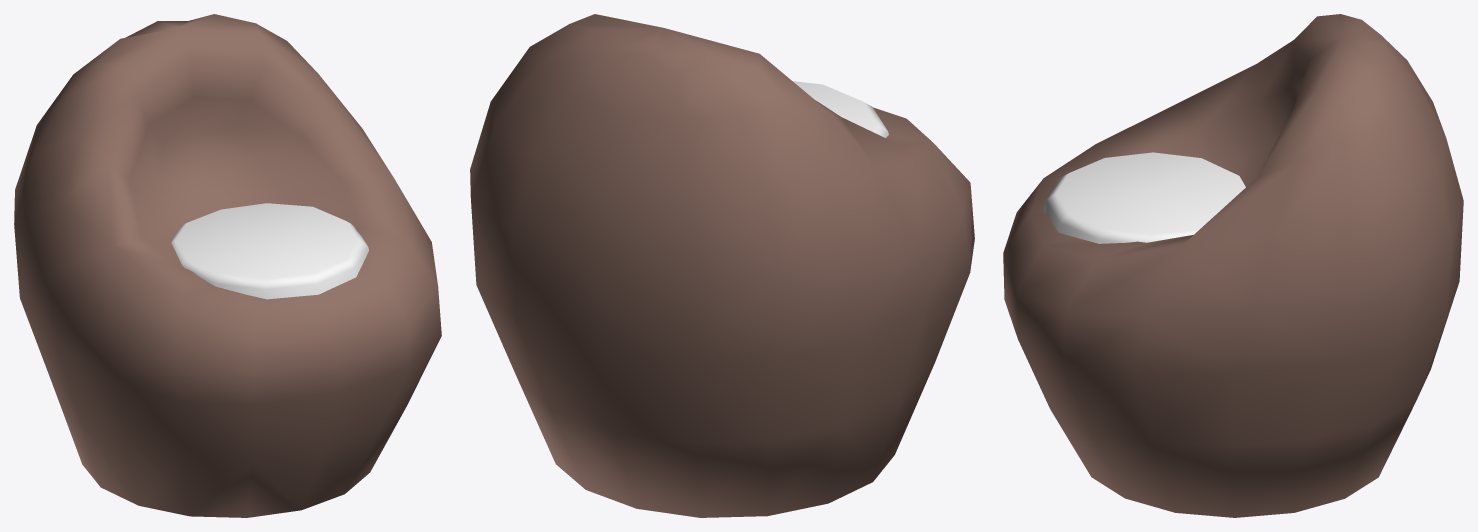
The model's file is chair_012.fbx.
The picture shows the model from 3 angles, left to right: view 1: azimuth 30°, elevation 25°; view 2: azimuth 150°, elevation 25°; view 3: azimuth 270°, elevation 25°; orthographic projection. The views are drawn at different scales.
Parts seen in each view (by area): view 1: chair_012; view 2: chair_012; view 3: chair_012.
Part boxes in pixels (x1,y1,x2,y2): chair_012: (14, 14, 441, 517); chair_012: (470, 14, 974, 517); chair_012: (1003, 14, 1463, 517).
Size of the model in its own units: 92.38 by 101 by 100.
